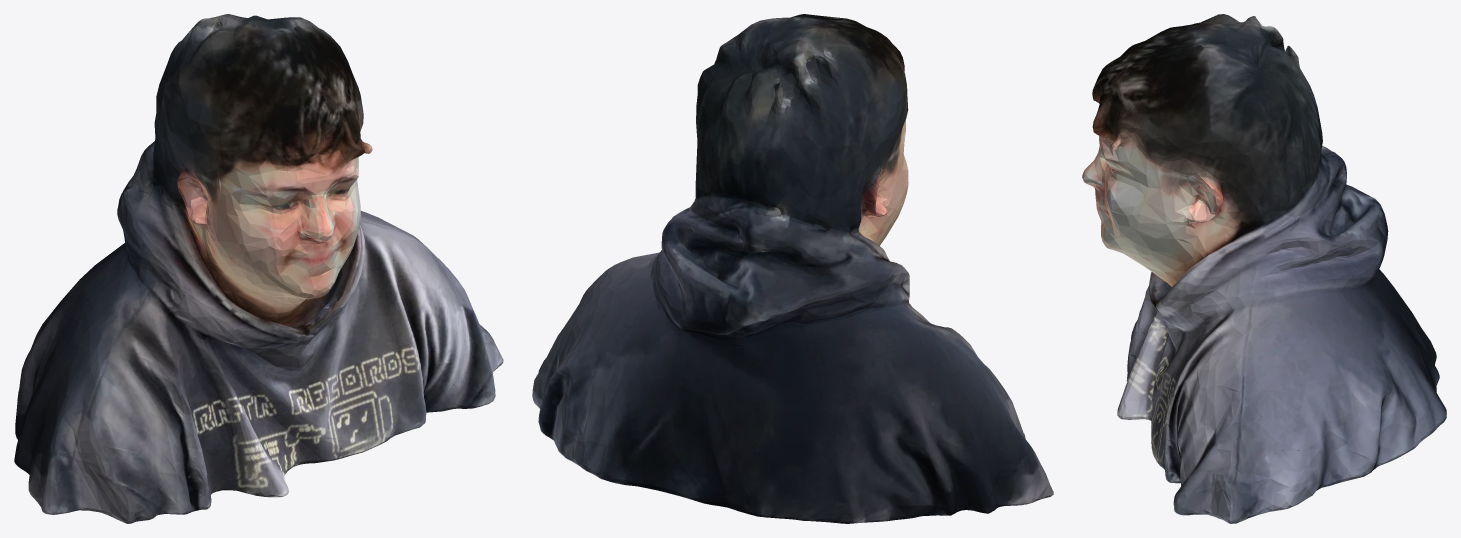
3 renders of one model, left to right at view 1: azimuth 30°, elevation 25°; view 2: azimuth 150°, elevation 25°; view 3: azimuth 270°, elevation 25°, orthographic. The views are drawn at different scales.
Parts seen in each view (by area): view 1: Node; view 2: Node; view 3: Node.
Boxes of the visible parts, <box> form: Node: <box>14,14,503,523</box>; Node: <box>532,14,1053,523</box>; Node: <box>1082,14,1446,523</box>.
Bounding box in the file's own units: 0.5571 × 0.4713 × 0.3882.
1 material, 1 textured.
